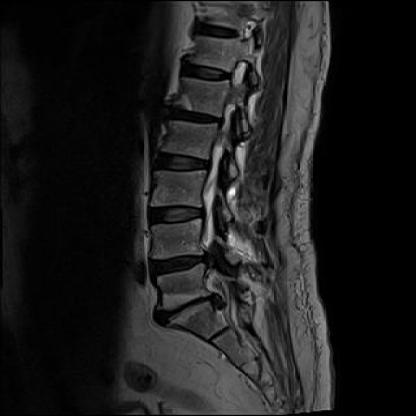Degenerative Disc Diseaserotation: (144, 246, 221, 279), (147, 297, 236, 324)
Disc Bulgerotation: (144, 246, 220, 279), (146, 297, 234, 322)
Disc Relaxationrotation: (144, 198, 210, 229), (149, 146, 213, 177), (164, 100, 228, 131)
